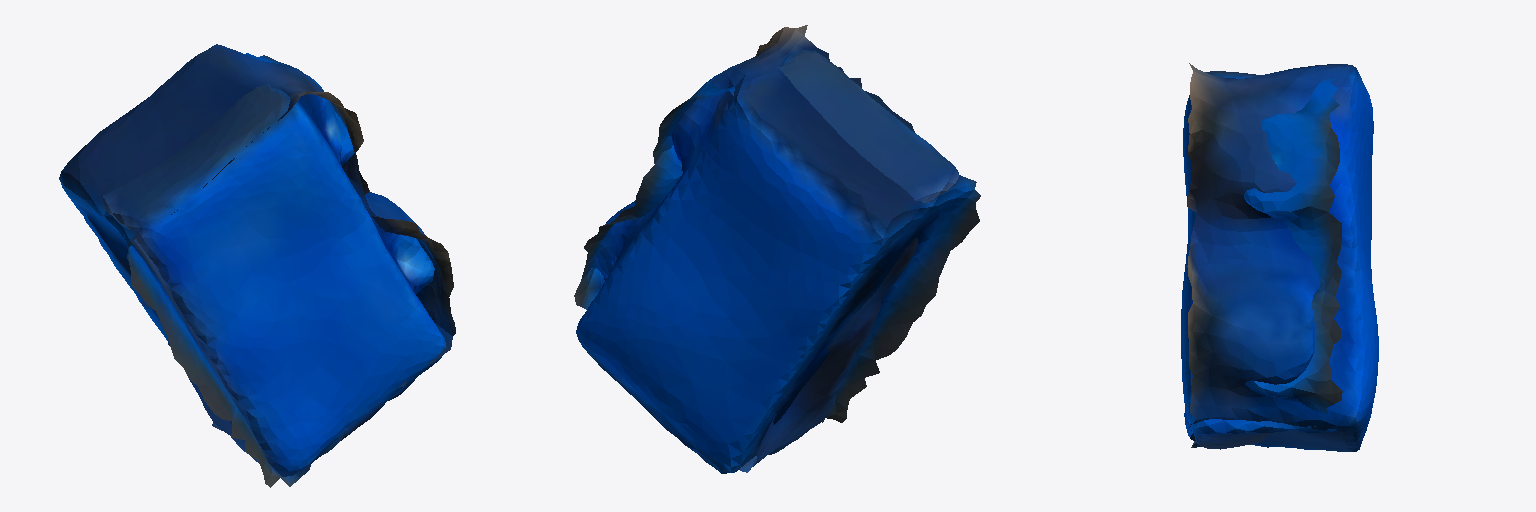
3 renders of one model, left to right at view 1: azimuth 30°, elevation 25°; view 2: azimuth 150°, elevation 25°; view 3: azimuth 270°, elevation 25°, orthographic.
Size of the model in its own units: 0.0172 by 0.0189 by 0.0086.
1 materials, 1 textured.